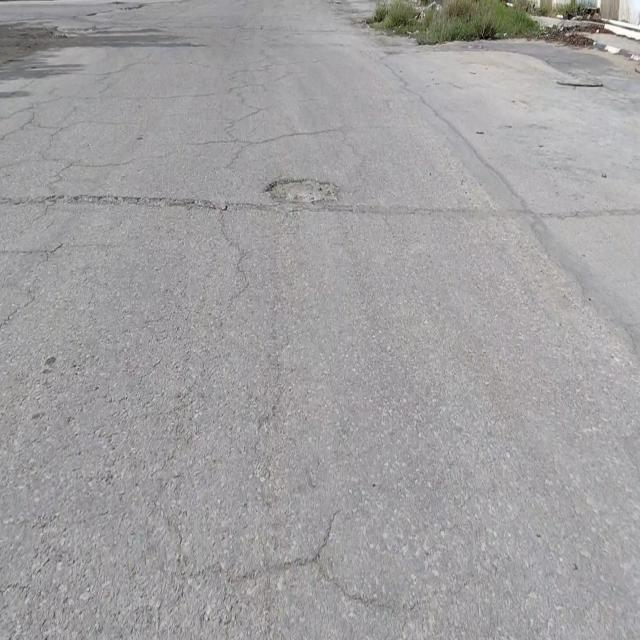Potholes: (263, 178, 340, 207)
